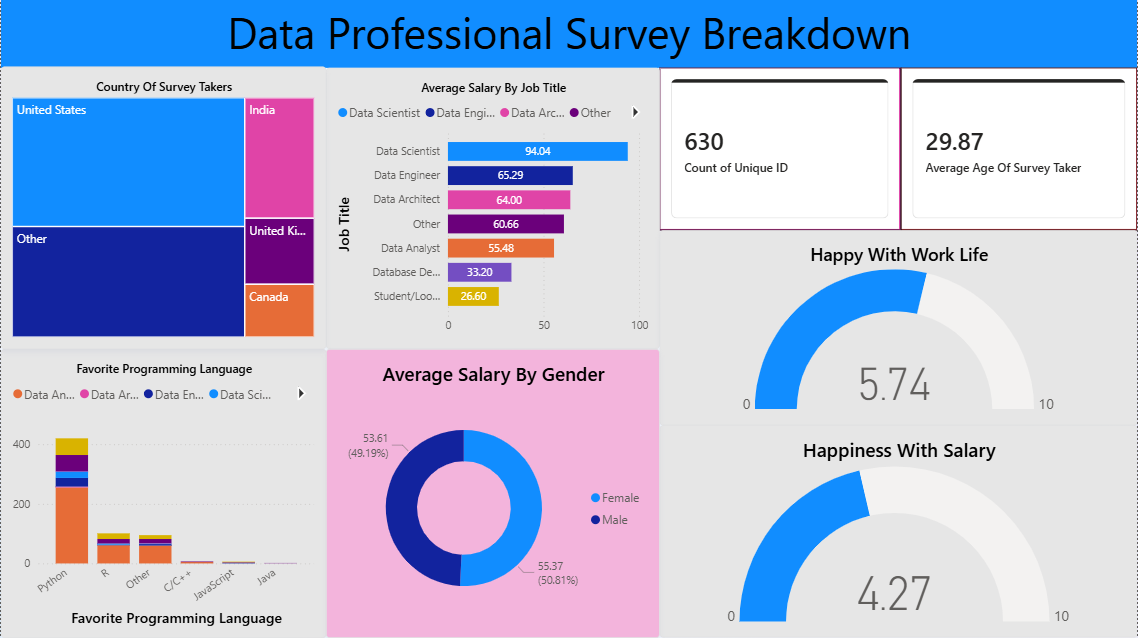

Layout of this report page (visuals, bound fields, positions):
{"tool":"powerbi","page":{"name":"Page 1","canvas":[1280,720],"ordinal":0},"visuals":[{"type":"textbox","box":[10,0,280,280],"z":0},{"type":"textbox","box":[0,0,1280.3,77.5],"z":1},{"type":"cardVisual","fields":{"Data":["CountNonNull(Data Professional Survey.Unique ID)"]},"box":[742.3,77.5,271.8,183.1],"z":2},{"type":"cardVisual","fields":{"Data":["Avg(Data Professional Survey.Q10 - Current Age)"]},"box":[1014.1,77.5,266.2,183.1],"z":3},{"type":"barChart","title":"Average Salary By Job Title","fields":{"Category":["Data Professional Survey.Q1 - Which Title Best Fits your Current Role?.1"],"Y":["Avg(Data Professional Survey.Average Salary)"],"Series":["Data Professional Survey.Q1 - Which Title Best Fits your Current Role?.1"]},"box":[366.2,77.5,376.1,316.9],"z":4},{"type":"columnChart","title":"Favorite Programming Language","fields":{"Category":["Data Professional Survey.Q5 - Favorite Programming Language.1"],"Y":["CountNonNull(Data Professional Survey.Unique ID)"],"Series":["Data Professional Survey.Q1 - Which Title Best Fits your Current Role?.1"]},"box":[0,394.4,366.2,325.4],"z":5},{"type":"treemap","title":"Country Of Survey Takers","fields":{"Group":["Data Professional Survey.Q11 - Which Country do you live in?.1"],"Values":["CountNonNull(Data Professional Survey.Q11 - Which Country do you live in?.1)"]},"box":[0,76.1,366.2,318.3],"z":6},{"type":"gauge","title":"Happy With Work Life","fields":{"Y":["Avg(Data Professional Survey.Q6 - How Happy are you in your Current Position with the following? (Work/Life Balance))"],"MinValue":["Min(Data Professional Survey.Q6 - How Happy are you in your Current Position with the following? (Work/Life Balance))1"],"MaxValue":["Max(Data Professional Survey.Q6 - How Happy are you in your Current Position with the following? (Work/Life Balance))2"]},"box":[742.3,260.6,538,219.7],"z":7},{"type":"gauge","title":"Happiness With Salary","fields":{"Y":["Avg(Data Professional Survey.Q6 - How Happy are you in your Current Position with the following? (Salary))"],"MinValue":["Min(Data Professional Survey.Q6 - How Happy are you in your Current Position with the following? (Salary))1"],"MaxValue":["Max(Data Professional Survey.Q6 - How Happy are you in your Current Position with the following? (Salary))2"]},"box":[742.3,480.3,538,239.4],"z":8},{"type":"donutChart","title":"Average Salary By Gender","fields":{"Category":["Data Professional Survey.Q9 - Male/Female?"],"Y":["Avg(Data Professional Survey.Average Salary)"]},"box":[366.2,394.4,376.1,325.4],"z":9}]}

Visuals, with their boxes in screenshot pixels (x1, y1, x2, y2), scaled from the page's 1280x720 canvas onto the 1138x638 screenshot:
textbox: locate(9, 0, 258, 248)
textbox: locate(0, 0, 1137, 69)
cardVisual - CountNonNull(Data Professional Survey.Unique ID): locate(660, 69, 902, 231)
cardVisual - Avg(Data Professional Survey.Q10 - Current Age): locate(902, 69, 1137, 231)
"Average Salary By Job Title" barChart: locate(326, 69, 660, 349)
"Favorite Programming Language" columnChart: locate(0, 349, 326, 637)
"Country Of Survey Takers" treemap: locate(0, 67, 326, 349)
"Happy With Work Life" gauge: locate(660, 231, 1137, 426)
"Happiness With Salary" gauge: locate(660, 426, 1137, 637)
"Average Salary By Gender" donutChart: locate(326, 349, 660, 637)
